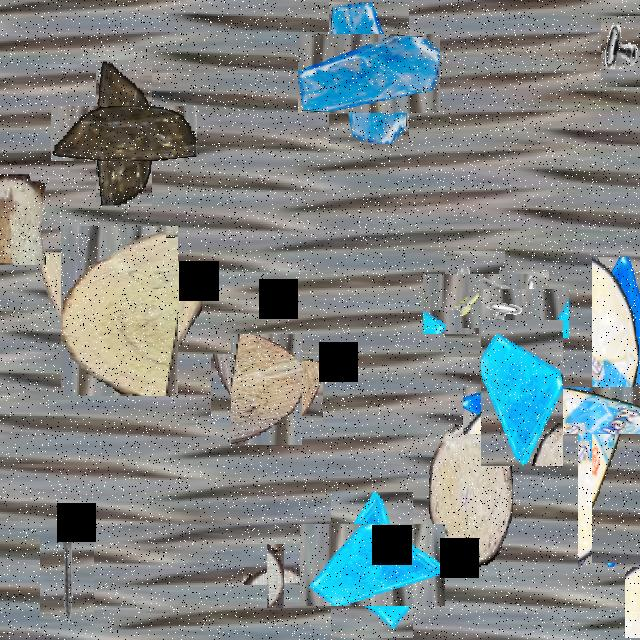glass: (315, 508, 429, 622), (314, 18, 424, 128), (481, 320, 563, 466), (578, 432, 640, 567), (625, 489, 640, 638)
metal: (434, 262, 516, 346), (40, 530, 94, 626), (489, 278, 559, 348), (601, 16, 640, 87)
plastic: (527, 322, 640, 499), (74, 83, 174, 184)
wood: (47, 239, 191, 383), (429, 423, 513, 565), (221, 344, 313, 435), (0, 174, 46, 263), (254, 556, 296, 596)
